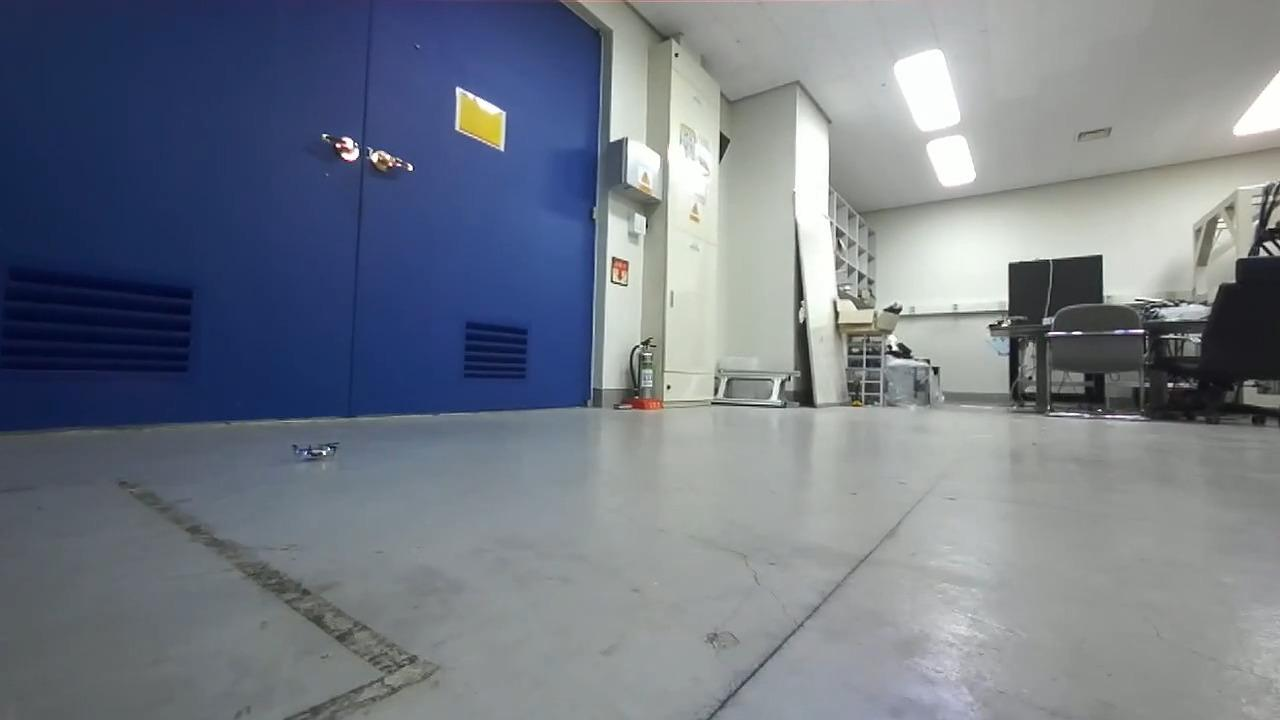crazyflie: (287, 437, 340, 466)
